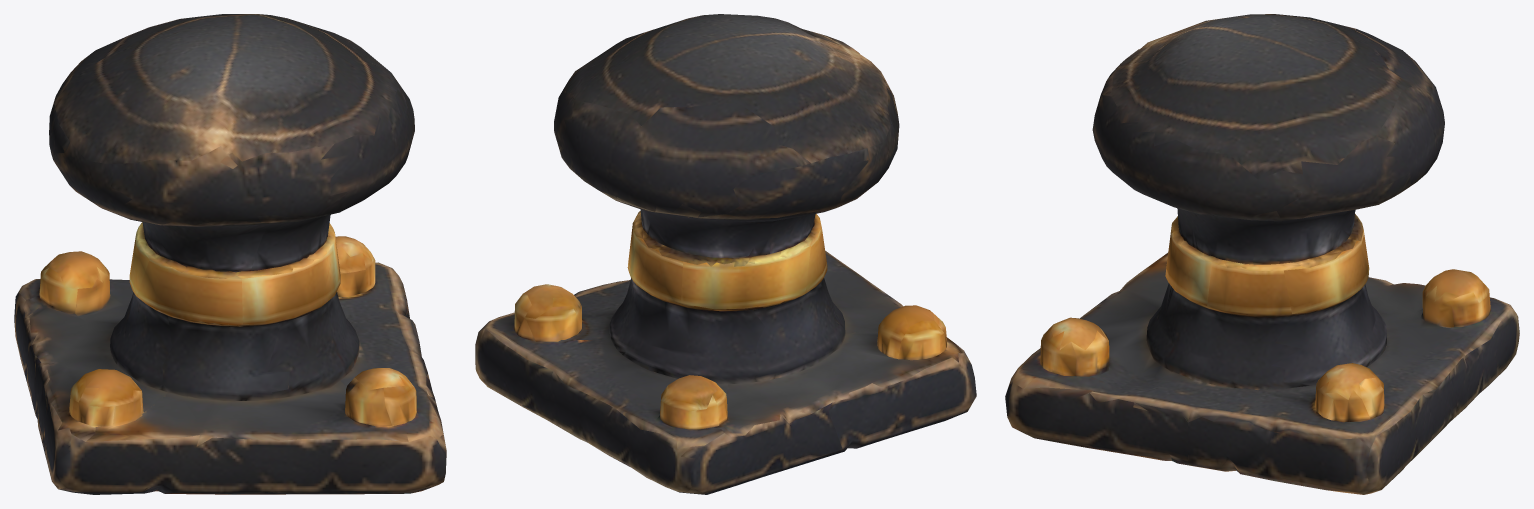
The model's file is bollard.glb.
The picture shows the model from 3 angles, left to right: view 1: azimuth 30°, elevation 25°; view 2: azimuth 150°, elevation 25°; view 3: azimuth 270°, elevation 25°; orthographic projection. The views are drawn at different scales.
Visible parts, largest first — view 1: bollard; view 2: bollard; view 3: bollard.
Boxes of the visible parts, x1,y1,x2,y2 form: bollard: (14,14,446,494); bollard: (475,14,976,494); bollard: (1005,14,1519,494).
Bounding box in the file's own units: 0.7556 × 0.6231 × 0.8014.
1 material, 1 textured.
